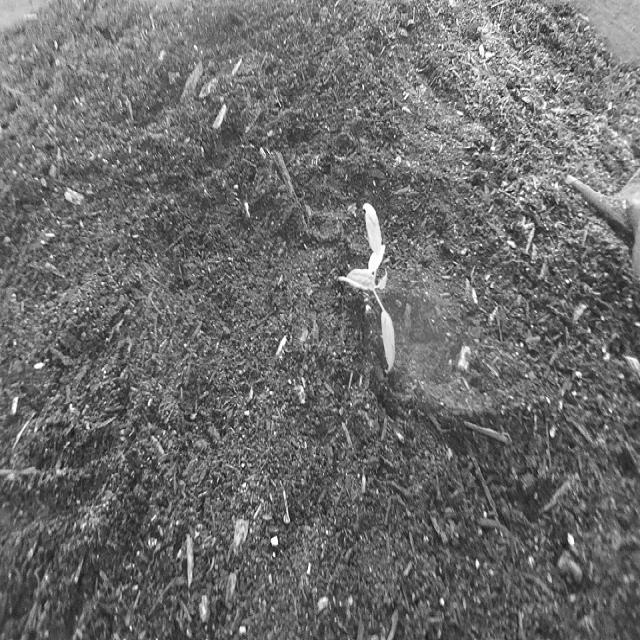Healthy: (332, 195, 402, 377)
